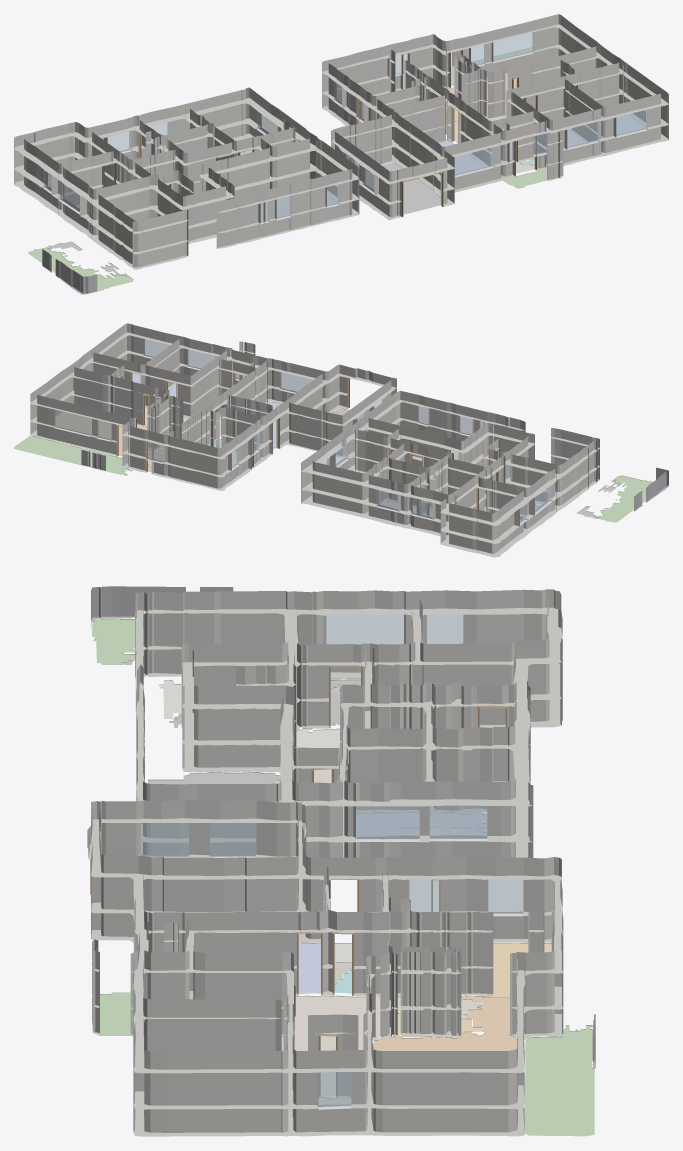
The picture shows the model from 3 angles, top to bottom: view 1: azimuth 30°, elevation 25°; view 2: azimuth 150°, elevation 25°; view 3: azimuth 270°, elevation 25°; orthographic projection. The views are drawn at different scales.
Parts seen in each view (by area): view 1: walls, floor_36_Garage, railings, floor_2_Outdoor, window_27, window_36, window_39, window_40, floor_8_Bed_Room, floor_0_Outdoor, floor_9_Bed_Room; view 2: walls, floor_3_Outdoor, floor_2_Outdoor, floor_7_Living_Room, railings, window_27, window_36, window_39, window_24, window_23; view 3: walls, floor_3_Outdoor, floor_7_Living_Room, floor_19_Entry, floor_10_Bed_Room, window_32, railings, window_31, window_28, floor_2_Outdoor, window_35, window_34 (+9 smaller).
Part boxes in pixels (x1,y1,x2,y2): walls: (14,14,668,269); floor_36_Garage: (365,162,440,214); railings: (42,50,460,294); floor_2_Outdoor: (28,247,133,291); window_27: (493,32,533,61); window_36: (454,147,493,175); window_39: (567,121,598,148); window_40: (616,110,647,136); floor_8_Bed_Room: (567,114,645,146); floor_0_Outdoor: (503,169,560,188); floor_9_Bed_Room: (439,141,484,174); walls: (30,323,599,557); floor_3_Outdoor: (14,436,132,475); floor_2_Outdoor: (598,475,652,522); floor_7_Living_Room: (55,413,162,471); railings: (81,402,668,511); window_27: (54,410,90,435); window_36: (280,372,312,392); window_39: (187,349,215,369); window_24: (411,497,432,518); window_23: (376,490,397,510); walls: (87,589,563,1136); floor_3_Outdoor: (524,1025,594,1136); floor_7_Living_Room: (372,996,516,1050); floor_19_Entry: (294,995,482,1096); floor_10_Bed_Room: (356,812,486,837); window_32: (326,611,404,644); railings: (91,586,595,1068); window_31: (356,806,419,839); window_28: (429,805,487,838); floor_2_Outdoor: (92,619,134,664); window_35: (140,823,188,856); window_34: (210,823,255,856).
Bounding box in the file's own units: 37.04 × 2.72 × 15.29.
